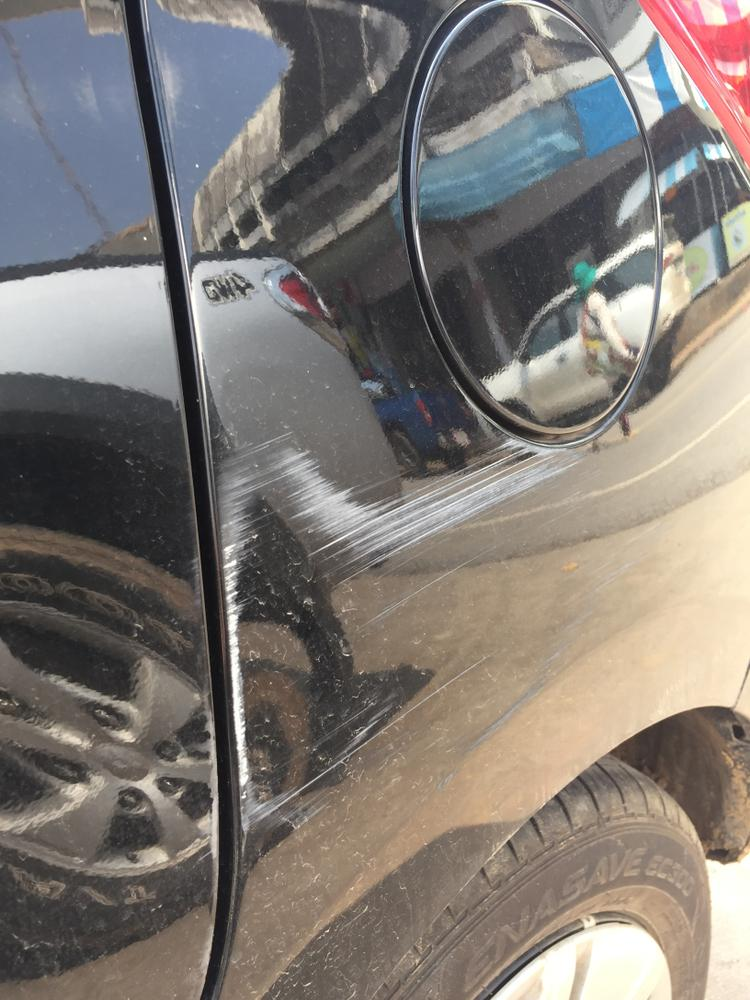scratch: (207, 420, 587, 854)
